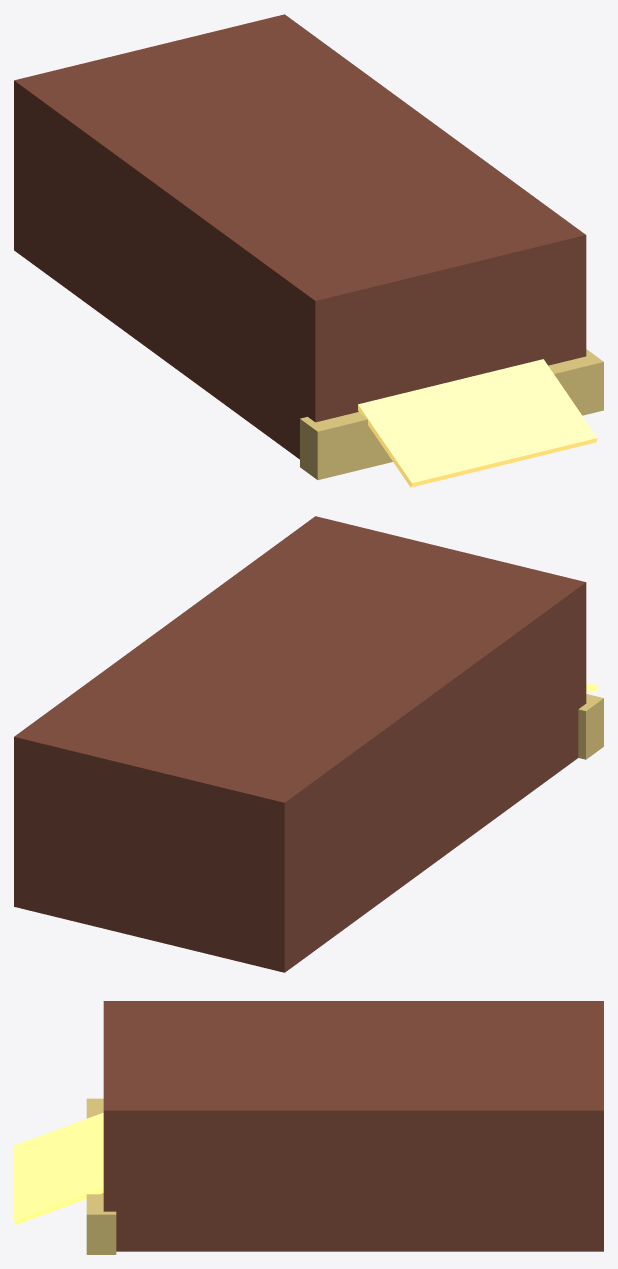
File: card_shoe.glb
The picture shows the model from 3 angles, top to bottom: view 1: azimuth 30°, elevation 25°; view 2: azimuth 150°, elevation 25°; view 3: azimuth 270°, elevation 25°; orthographic projection. The views are drawn at different scales.
Visible parts, largest first — view 1: DealerCardShoe, PowerUpCard; view 2: DealerCardShoe; view 3: DealerCardShoe, PowerUpCard.
Boxes of the visible parts, <box> form: DealerCardShoe: <box>14,14,603,479</box>; PowerUpCard: <box>358,359,597,487</box>; DealerCardShoe: <box>14,516,603,972</box>; DealerCardShoe: <box>86,1001,603,1254</box>; PowerUpCard: <box>14,1112,103,1224</box>.
Size of the model in its own units: 0.74 by 0.42 by 1.59.
